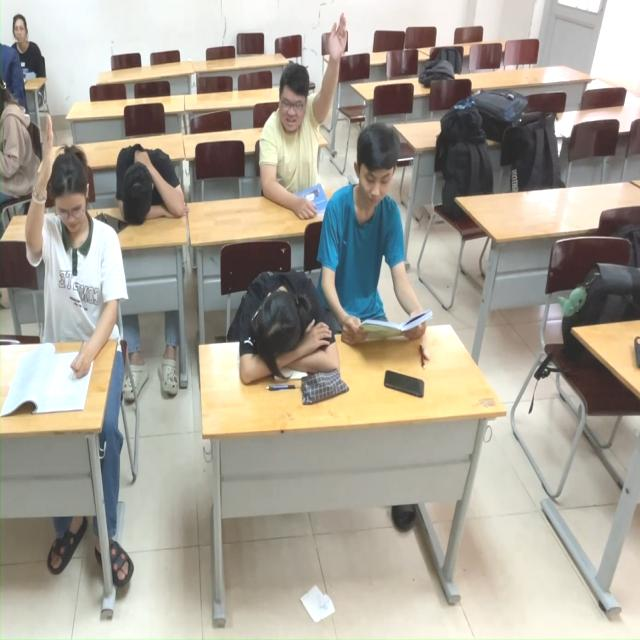raise_hand: (26, 103, 124, 417), (256, 10, 356, 228)
read: (316, 131, 428, 370)
